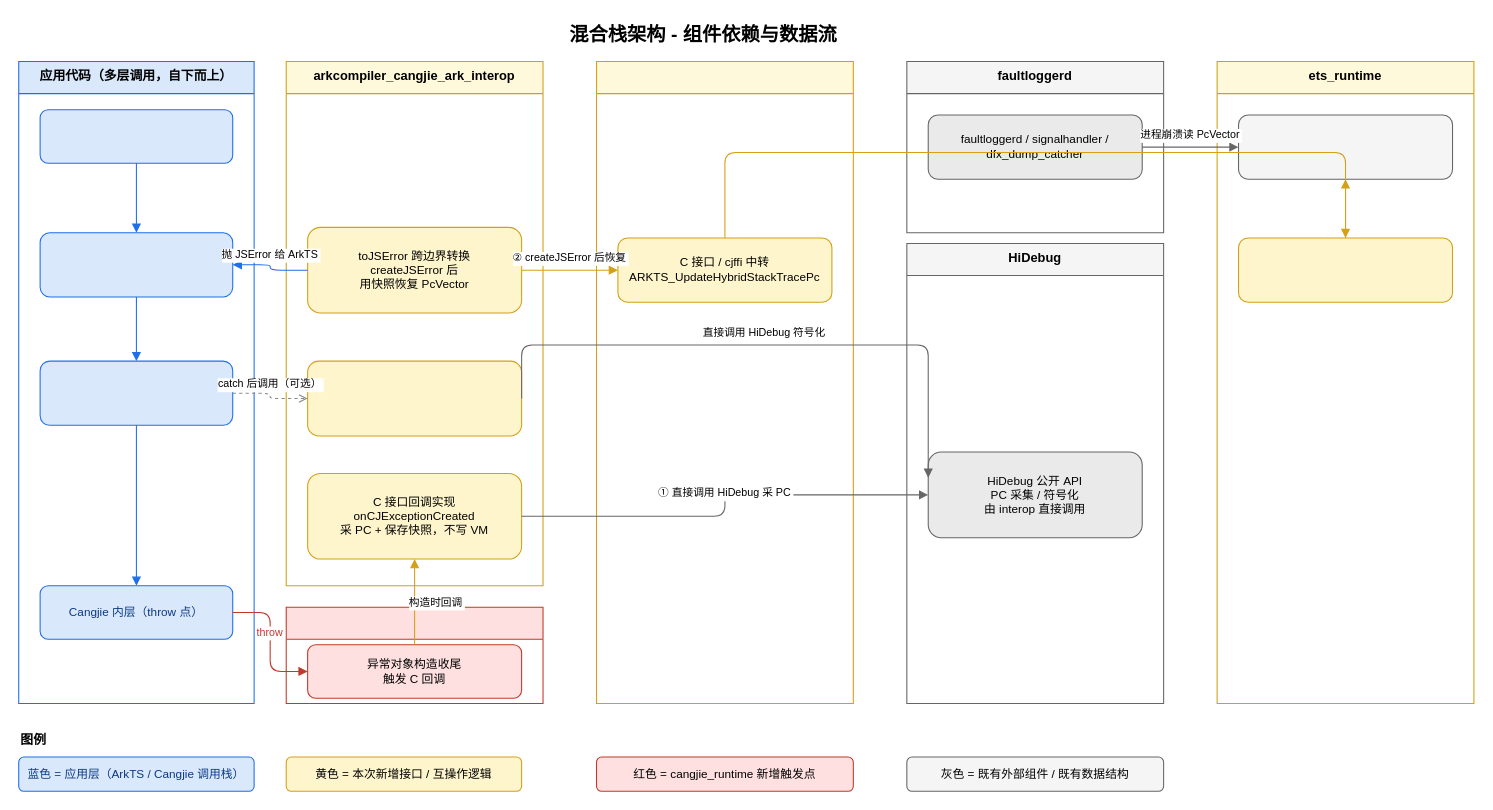
Image size: 1493x810. Some labels were removed from this diagram. Each missing label, with the box of its shape:
ArkTS 中间层: (39, 232, 233, 297)
ArkTS 顶层 / 应用入口: (39, 109, 233, 163)
arkui_napi cjffi: (595, 60, 853, 704)
Cangjie 顶层（被 ArkTS 调用）: (39, 360, 233, 425)
cangjie_runtime: (285, 606, 543, 704)
DFXJSNApi::UpdateHybridStackTracePc （新增，仅恢复阶段调用）: (1237, 237, 1453, 302)
EcmaVM PcVector （既有存储点）: (1237, 114, 1453, 179)
仓颉接口 BusinessException.toString / HybridStack.getTrace: (307, 360, 522, 436)
